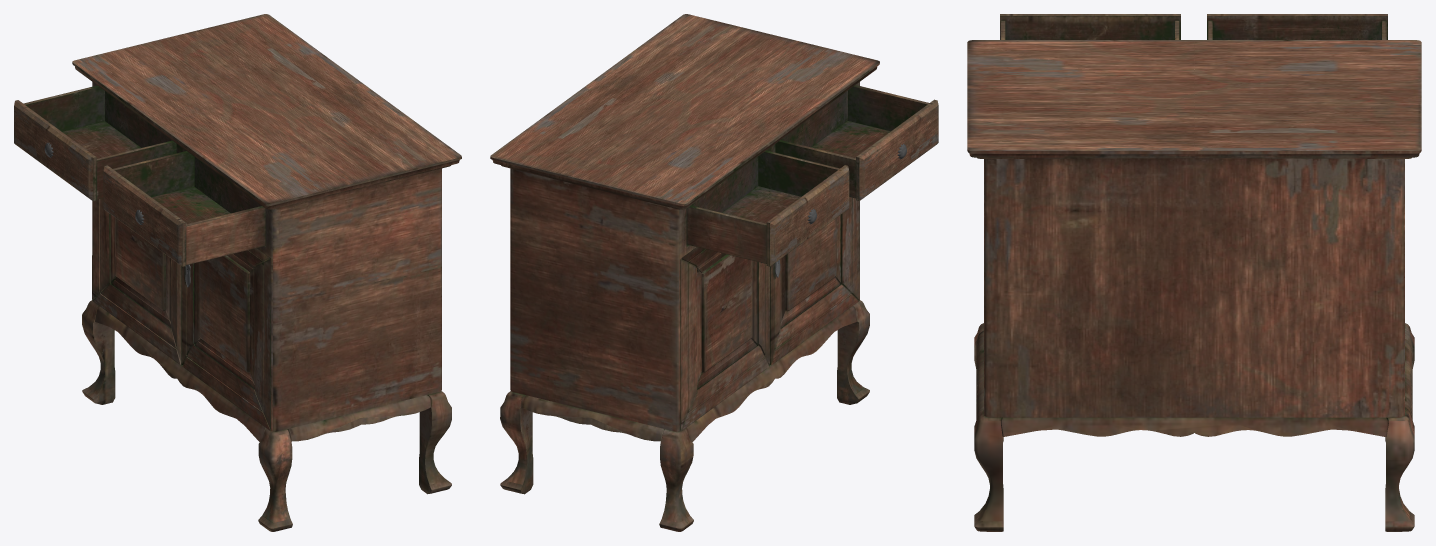
The model's file is cabinet.gltf.
The picture shows the model from 3 angles, left to right: view 1: azimuth 30°, elevation 25°; view 2: azimuth 150°, elevation 25°; view 3: azimuth 270°, elevation 25°; orthographic projection. The views are drawn at different scales.
Parts seen in each view (by area): view 1: Circle.005_Cabinet_0; view 2: Circle.005_Cabinet_0; view 3: Circle.005_Cabinet_0.
Part boxes in pixels (x1,y1,x2,y2): Circle.005_Cabinet_0: (14,14,461,531); Circle.005_Cabinet_0: (490,14,938,531); Circle.005_Cabinet_0: (967,14,1421,531).
Size of the model in its own units: 3.2 by 3.77 by 3.98.
1 material, 1 textured.
